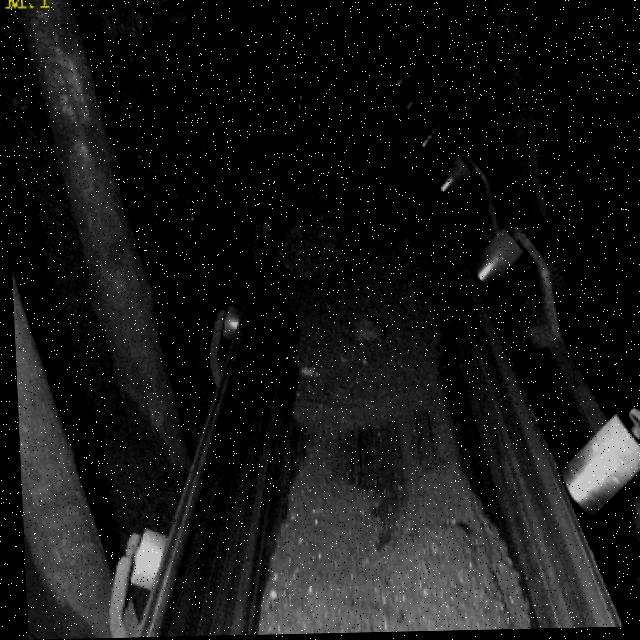large_sized_coal: (271, 206, 363, 288)
